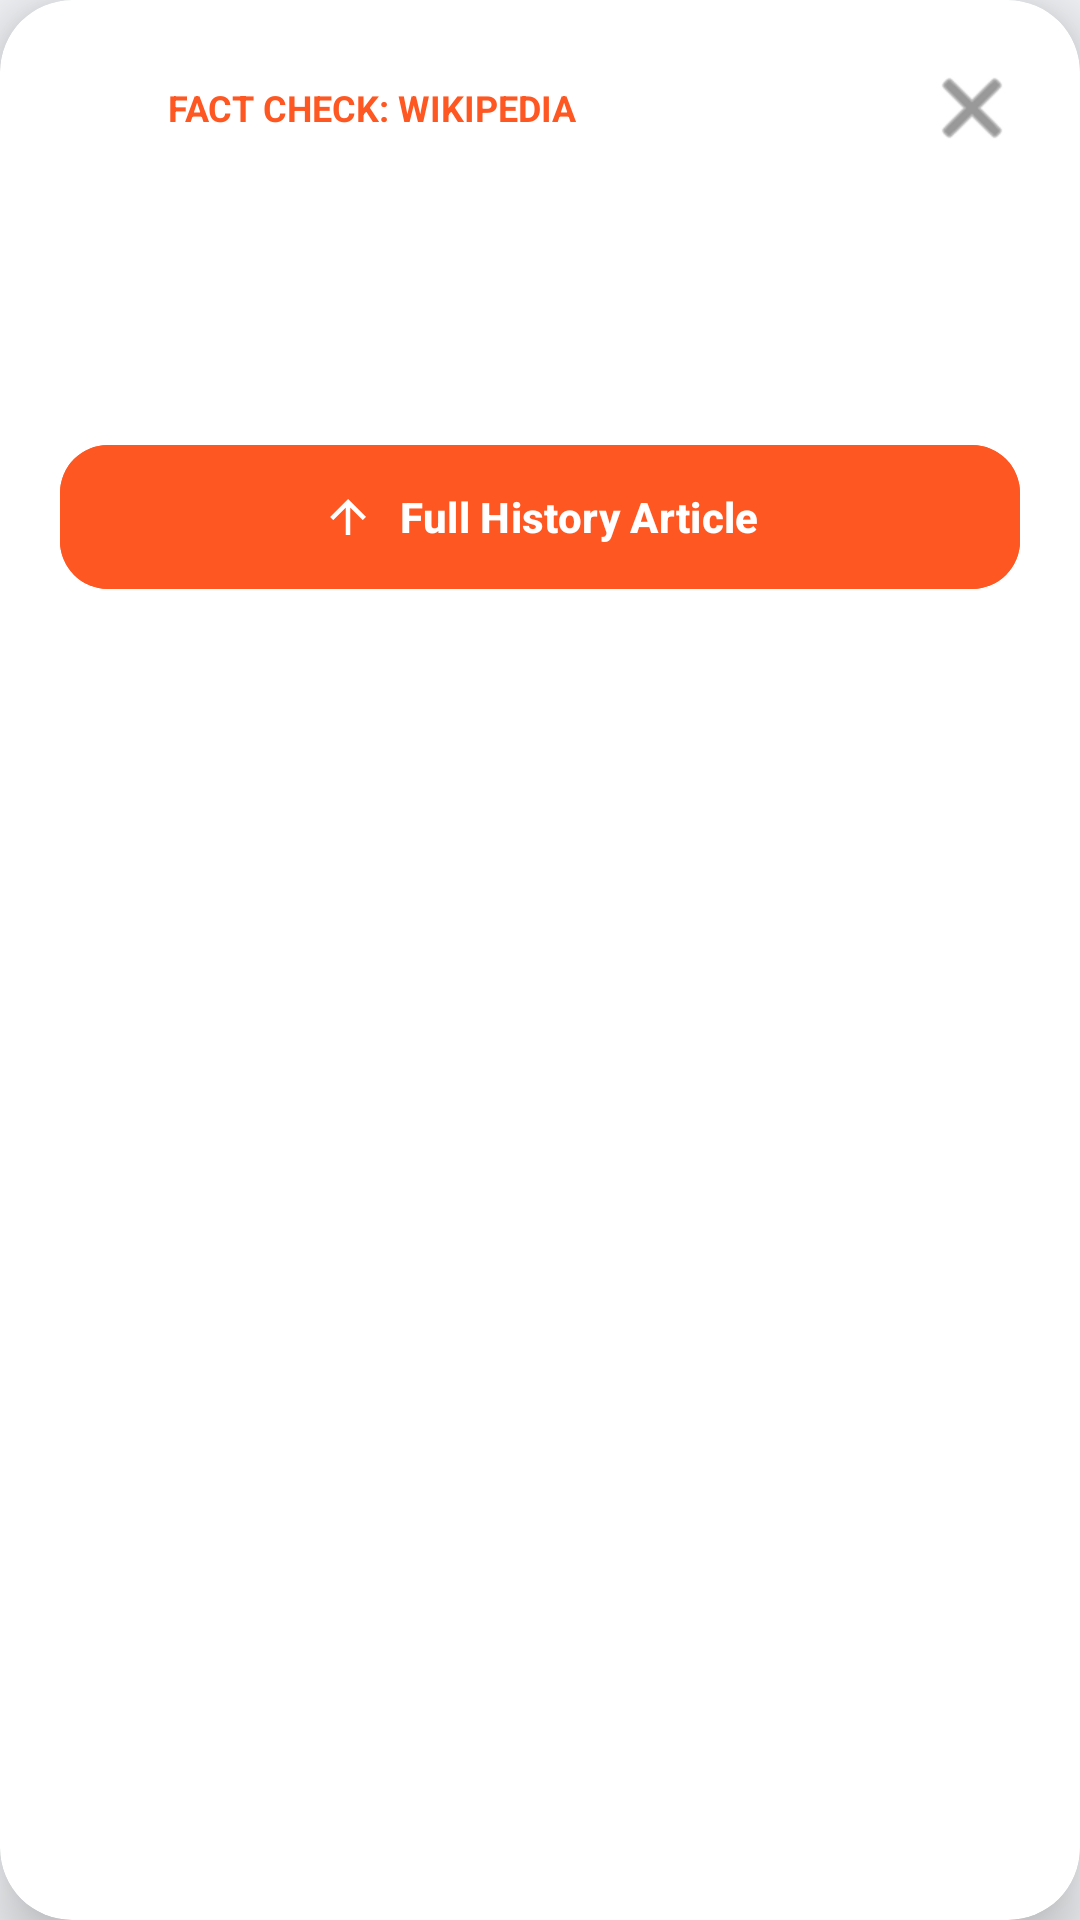

Named icons in this screenshot (1080*1920) and their bounding boxes, detection(x1, y1, x2, y2):
close clear cancel: detection(942, 78, 1002, 138)
